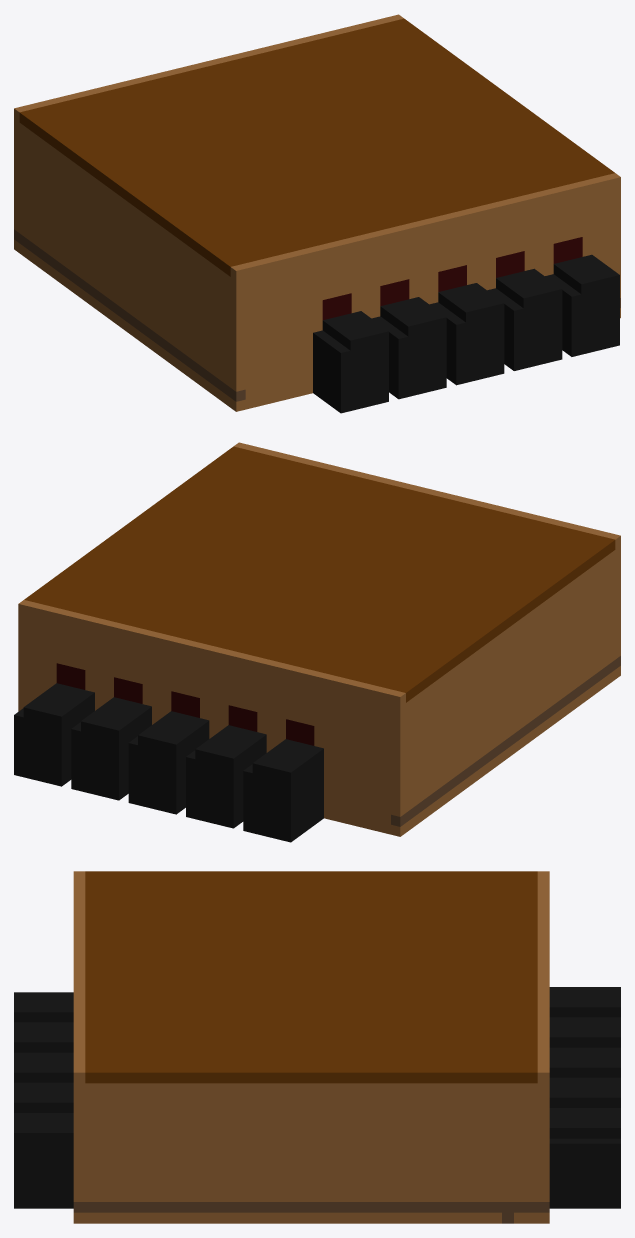
Rendered from SelectRoomBadQuality.obj.
3 renders of one model, top to bottom at view 1: azimuth 30°, elevation 25°; view 2: azimuth 150°, elevation 25°; view 3: azimuth 270°, elevation 25°, orthographic. The views are drawn at different scales.
Bounding box in the file's own units: 4 × 1.4 × 5.1.
Materials: 1 (1 with a texture image).
